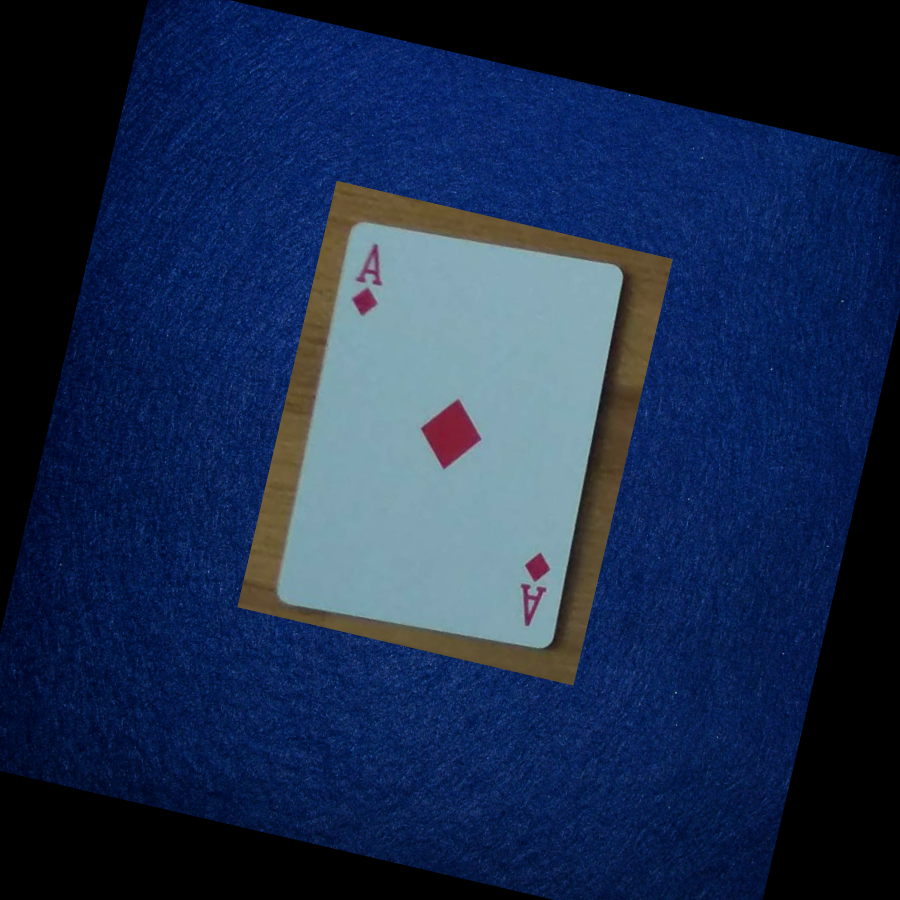1F: (491, 529, 571, 648), (334, 219, 404, 339)
